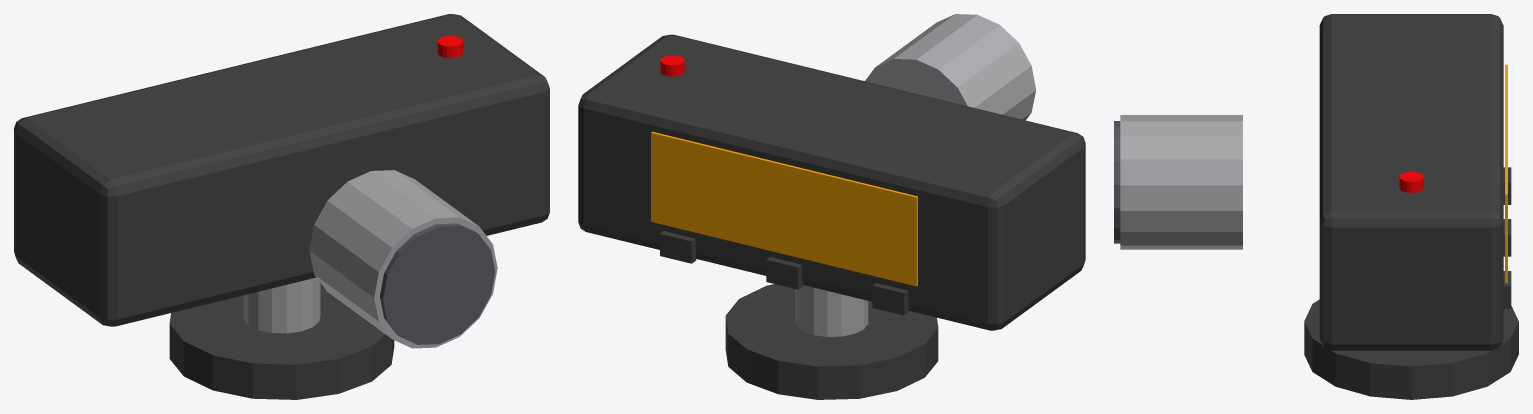
Rendered from SpeedRadar.fbx.
3 views of the same model, side by side, from view 1: azimuth 30°, elevation 25°; view 2: azimuth 150°, elevation 25°; view 3: azimuth 270°, elevation 25° (orthographic). The views are drawn at different scales.
Parts seen in each view (by area): view 1: SpeedRadar_Housing, SpeedRadar_Base, SpeedRadar_AntennaBody, SpeedRadar_AntennaLens, SpeedRadar_Neck, SpeedRadar_LED; view 2: SpeedRadar_Housing, SpeedRadar_Screen, SpeedRadar_Base, SpeedRadar_AntennaBody, SpeedRadar_Neck, SpeedRadar_Button_0, SpeedRadar_Button_1, SpeedRadar_Button_2, SpeedRadar_LED; view 3: SpeedRadar_Housing, SpeedRadar_AntennaBody, SpeedRadar_Base, SpeedRadar_AntennaLens, SpeedRadar_Screen, SpeedRadar_LED.
Boxes of the visible parts, <box> form: SpeedRadar_Housing: <box>14,14,549,326</box>; SpeedRadar_Base: <box>169,283,394,399</box>; SpeedRadar_AntennaBody: <box>309,170,497,348</box>; SpeedRadar_AntennaLens: <box>380,223,495,344</box>; SpeedRadar_Neck: <box>243,277,320,333</box>; SpeedRadar_LED: <box>437,35,463,58</box>; SpeedRadar_Housing: <box>578,34,1085,330</box>; SpeedRadar_Screen: <box>651,131,917,286</box>; SpeedRadar_Base: <box>725,284,938,399</box>; SpeedRadar_AntennaBody: <box>865,14,1035,120</box>; SpeedRadar_Neck: <box>795,285,868,336</box>; SpeedRadar_Button_0: <box>872,283,908,315</box>; SpeedRadar_Button_1: <box>766,257,802,289</box>; SpeedRadar_Button_2: <box>660,231,696,263</box>; SpeedRadar_LED: <box>660,55,684,76</box>; SpeedRadar_Housing: <box>1319,14,1503,350</box>; SpeedRadar_AntennaBody: <box>1120,115,1242,249</box>; SpeedRadar_Base: <box>1304,299,1518,399</box>; SpeedRadar_AntennaLens: <box>1114,121,1120,243</box>; SpeedRadar_Screen: <box>1505,64,1507,283</box>; SpeedRadar_LED: <box>1399,171,1423,192</box>.
Bounding box in the file's own units: 16 × 9.2 × 13.2.
